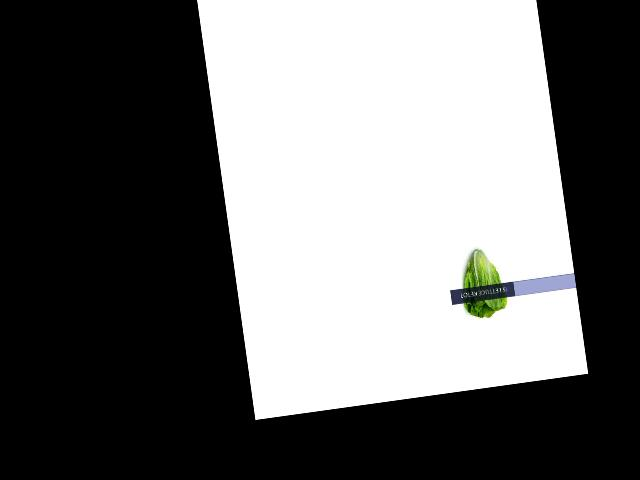lettuce: (452, 240, 510, 320)
